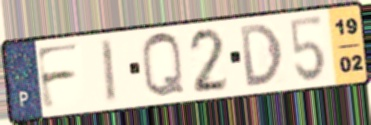2: (188, 27, 230, 95)
5: (287, 13, 328, 85)
D: (237, 21, 286, 90)
F: (34, 41, 83, 113)
I: (97, 36, 119, 107)
Q: (139, 30, 188, 101)
